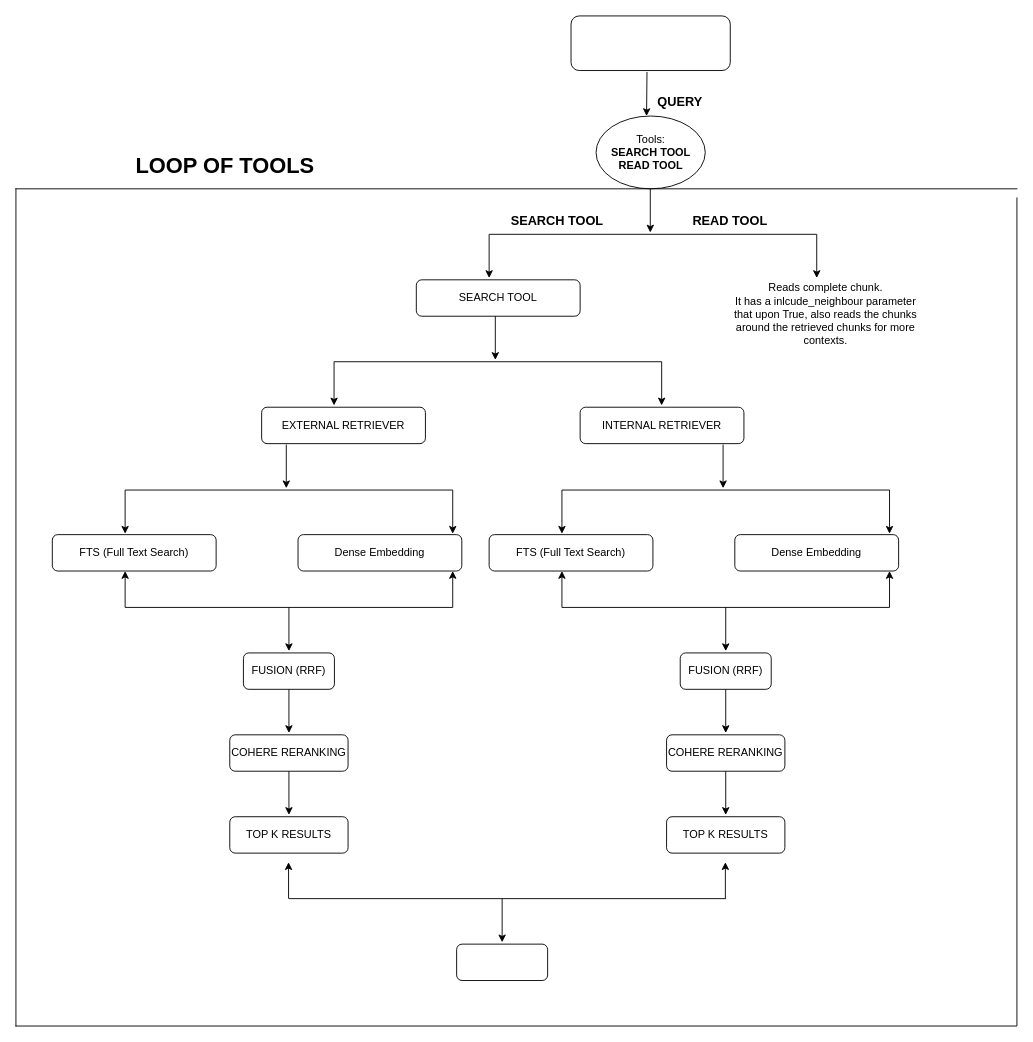
This 1033x1042 diagram has some shape labels left out. The shapes that lost their labels are listed below. From the top down, each one's centre as x and y in pixels, then its label:
At [650,43]: "RETRIEVAL AGENT".
At [502,962]: "FINAL RESULTS".
